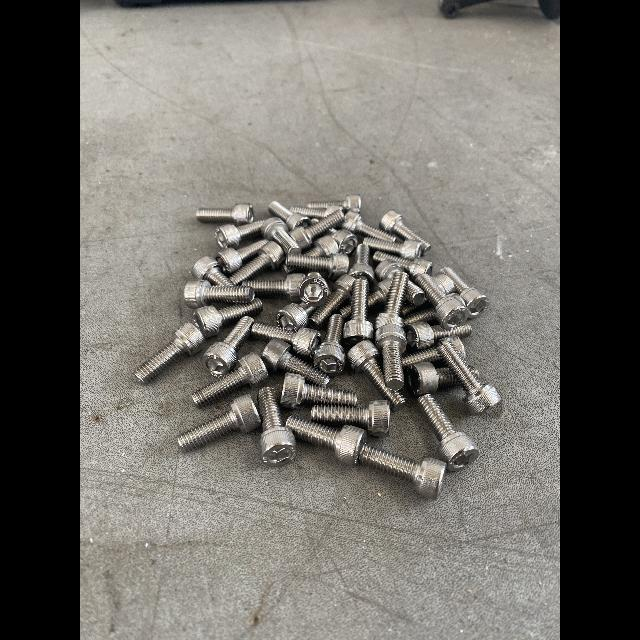Stainless Steel: (359, 444, 446, 499), (178, 395, 262, 450), (418, 394, 478, 471), (135, 322, 206, 381), (439, 346, 500, 414), (192, 353, 268, 407), (286, 416, 367, 465), (347, 340, 405, 408), (261, 339, 330, 387), (259, 387, 297, 467), (202, 317, 253, 376), (415, 274, 468, 330), (311, 400, 390, 435), (194, 299, 263, 339), (280, 373, 357, 408), (441, 266, 490, 318), (229, 240, 285, 284), (251, 323, 321, 358), (310, 275, 355, 329), (289, 210, 343, 250), (379, 210, 430, 252), (401, 322, 471, 352), (313, 314, 346, 377), (375, 323, 406, 390), (343, 276, 373, 344), (184, 280, 254, 309), (374, 272, 408, 330), (240, 273, 305, 302), (216, 239, 268, 274), (404, 362, 456, 396), (341, 211, 395, 243), (372, 251, 432, 279), (286, 253, 349, 277), (262, 217, 302, 254), (268, 201, 312, 230), (364, 238, 424, 259), (216, 221, 262, 248), (196, 204, 254, 225), (191, 256, 230, 285), (299, 271, 329, 307), (348, 244, 374, 285), (276, 303, 315, 330), (401, 346, 440, 369), (308, 195, 360, 212), (290, 204, 345, 219), (327, 228, 357, 255), (304, 235, 339, 257), (368, 280, 391, 307), (402, 308, 436, 326), (438, 336, 465, 358), (405, 280, 426, 307), (375, 260, 403, 280), (431, 273, 455, 294), (399, 303, 420, 317), (339, 305, 351, 322), (309, 219, 319, 225)
